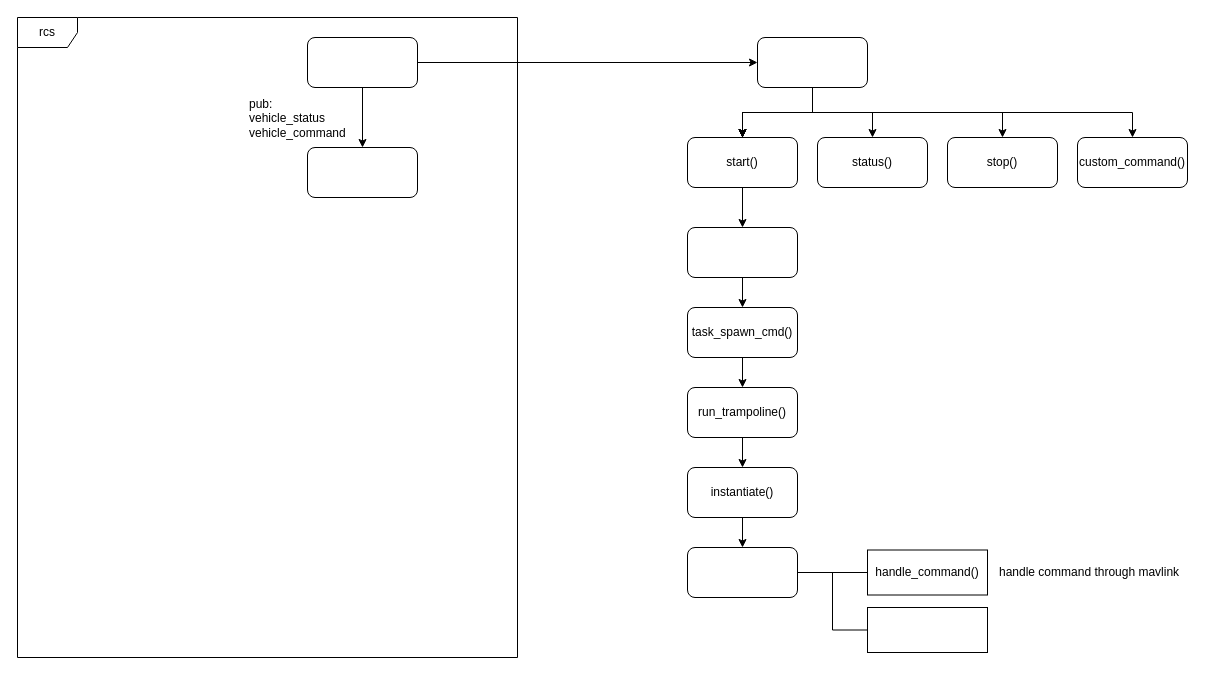
This 1205x675 diagram has some shape labels left out. Here are the shapes that lost their labels. From the top down, the centre of each, then its label:
point (362, 62): commander
point (812, 62): commander_main()
point (362, 172): navigator
point (742, 252): task_spawn()
point (742, 572): run()
